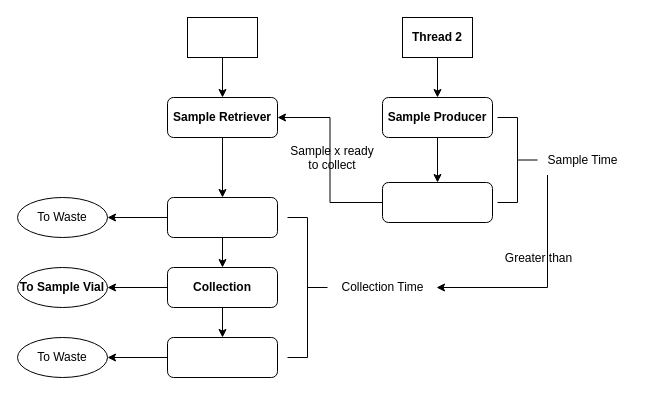
Some shapes in this 645 by 395 pixel diagram are drawn without their labels. The shapes that lost their labels are listed below. From the top down, each one's box as (x1, y1, x2, y2) in pixels, then its label:
(186, 16, 258, 58): Thread 1
(166, 196, 278, 238): Rinse
(382, 182, 492, 222): Signal Pin
(166, 336, 278, 378): Idle
